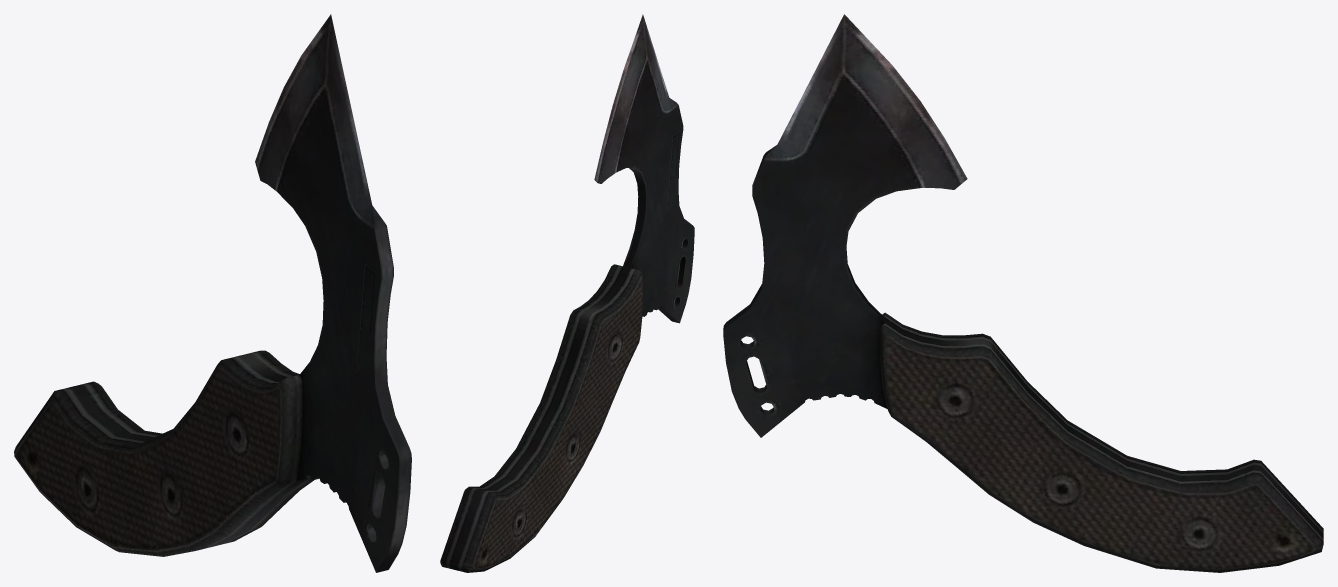
File: MiniAxe.obj
The picture shows the model from 3 angles, left to right: view 1: azimuth 30°, elevation 25°; view 2: azimuth 150°, elevation 25°; view 3: azimuth 270°, elevation 25°; orthographic projection. The views are drawn at different scales.
Parts seen in each view (by area): view 1: Part_0; view 2: Part_0; view 3: Part_0.
Part boxes in pixels (<box>): Part_0: <box>14,14,411,572</box>; Part_0: <box>440,14,694,572</box>; Part_0: <box>723,14,1323,572</box>.
Bounding box in the file's own units: 0.0174 × 0.2228 × 0.2199.
Materials: 1 (1 with a texture image).
